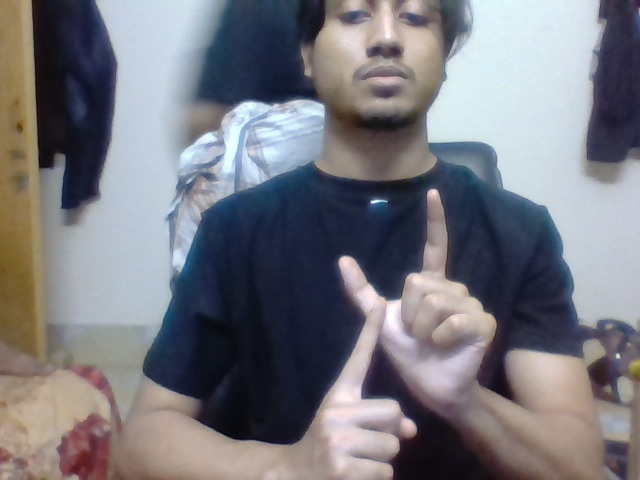Y: (329, 187, 456, 385)
